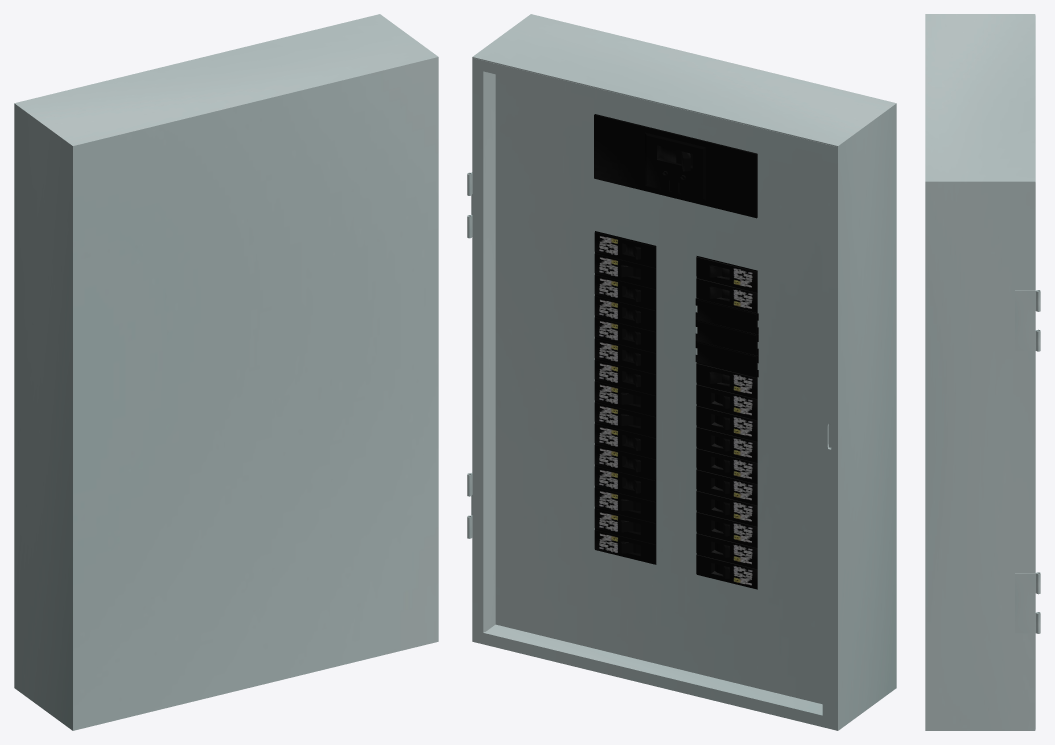
The model's file is breaker_box_V2.fbx.
3 renders of one model, left to right at view 1: azimuth 30°, elevation 25°; view 2: azimuth 150°, elevation 25°; view 3: azimuth 270°, elevation 25°, orthographic. The views are drawn at different scales.
Parts seen in each view (by area): view 1: Breaker Box; view 2: inside panel back, Breaker Box, inside panel front, Big Switch, blank cover, blank cover.001, blank cover.002, breakerswitch on, breakerswitch on.006, breakerswitch off.001, breakerswitch off.002, breakerswitch on.008 (+22 smaller); view 3: Breaker Box, hinge plate.001, hinge plate, inside panel front.
Boxes of the visible parts, x1,y1,x2,y2 form: Breaker Box: [14, 14, 438, 730]; inside panel back: [495, 74, 831, 704]; Breaker Box: [472, 14, 896, 730]; inside panel front: [473, 58, 836, 729]; Big Switch: [594, 114, 757, 218]; blank cover: [695, 298, 758, 334]; blank cover.001: [695, 319, 758, 355]; blank cover.002: [695, 341, 758, 377]; breakerswitch on: [594, 231, 656, 266]; breakerswitch on.006: [594, 358, 656, 394]; breakerswitch off.001: [594, 380, 656, 415]; breakerswitch off.002: [594, 401, 656, 436]; breakerswitch on.008: [594, 465, 656, 500]; Breaker Box: [925, 14, 1035, 730]; hinge plate.001: [1015, 572, 1040, 633]; hinge plate: [1015, 290, 1040, 351]; inside panel front: [1035, 15, 1035, 729].
Size of the model in its own units: 36.31 by 55 by 10.49.
Materials: 30 (30 with a texture image).
